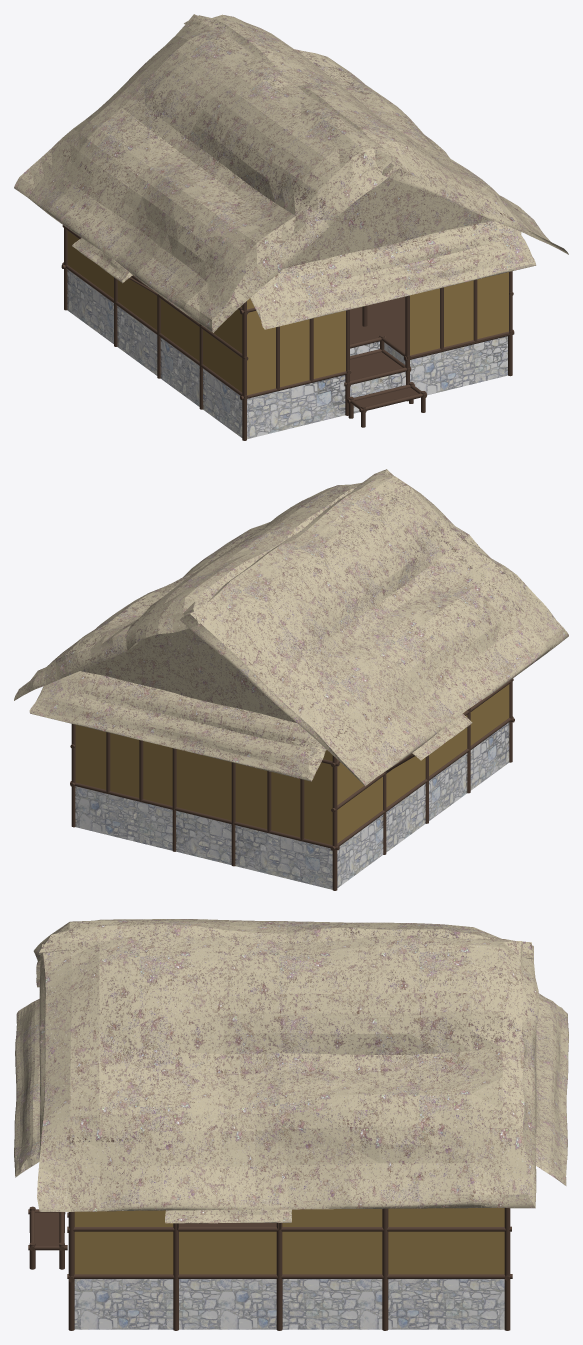
3 views of the same model, one above another, from view 1: azimuth 30°, elevation 25°; view 2: azimuth 150°, elevation 25°; view 3: azimuth 270°, elevation 25° (orthographic). The views are drawn at different scales.
Visible parts, largest first — view 1: 7; view 2: 7; view 3: 7.
Boxes of the visible parts, bbox=[...] form: 7: bbox=[14, 14, 568, 440]; 7: bbox=[14, 469, 568, 890]; 7: bbox=[14, 919, 568, 1330].
Size of the model in its own units: 29.78 by 20.48 by 31.76.
Materials: 6 (6 with a texture image).
